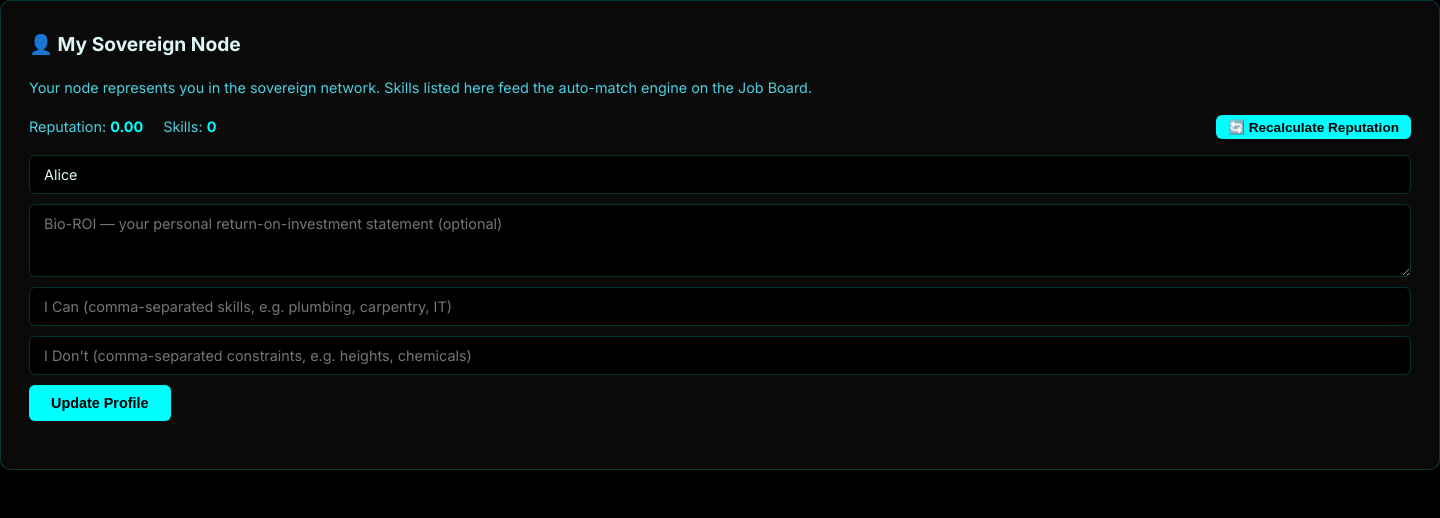
Test: NodeProfile › shows success message after update
The image size is (1440, 518).
Click the button "Update Profile" at (100, 403), box top-left (29, 385), bottom-right (171, 421)
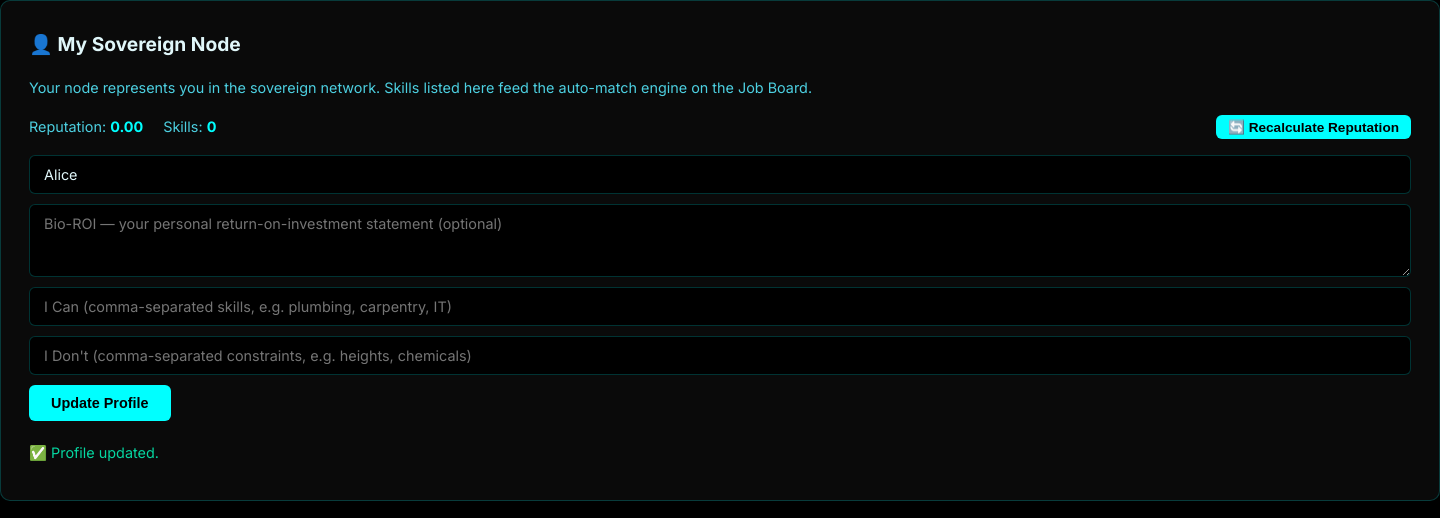
Expected: the text "✅ Profile updated." is shown, top-left (29, 444), bottom-right (159, 461)
